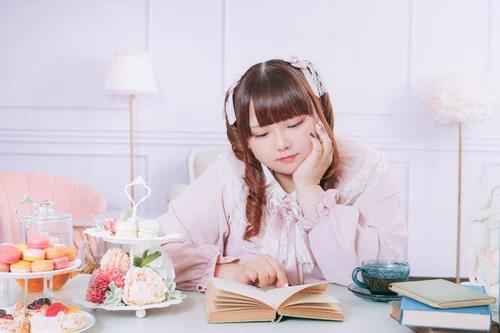human: (151, 57, 411, 289)
